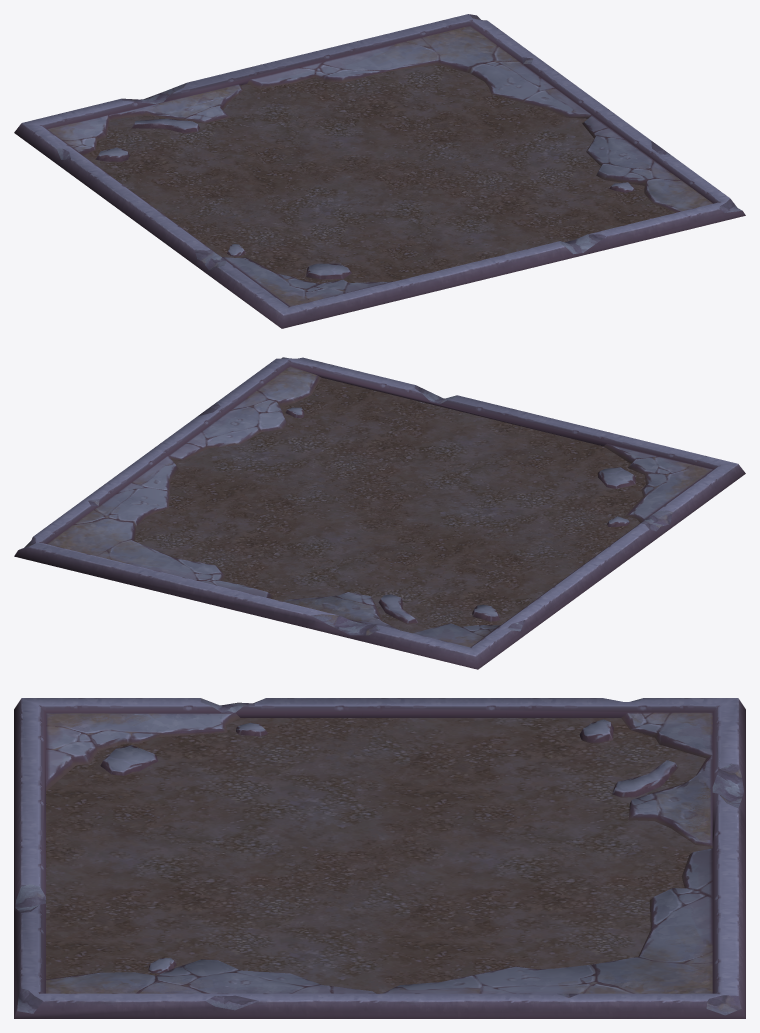
File: SleepingGarden_Floor_Center_03.fbx
The picture shows the model from 3 angles, top to bottom: view 1: azimuth 30°, elevation 25°; view 2: azimuth 150°, elevation 25°; view 3: azimuth 270°, elevation 25°; orthographic projection. The views are drawn at different scales.
Visible parts, largest first — view 1: SleepingGarden_Floor_Center_03; view 2: SleepingGarden_Floor_Center_03; view 3: SleepingGarden_Floor_Center_03.
Boxes of the visible parts, <box> form: SleepingGarden_Floor_Center_03: <box>14,14,745,328</box>; SleepingGarden_Floor_Center_03: <box>14,357,745,669</box>; SleepingGarden_Floor_Center_03: <box>14,698,745,1018</box>.
Bounding box in the file's own units: 9.47 × 0.208 × 9.47.
Materials: 4 (4 with a texture image).
